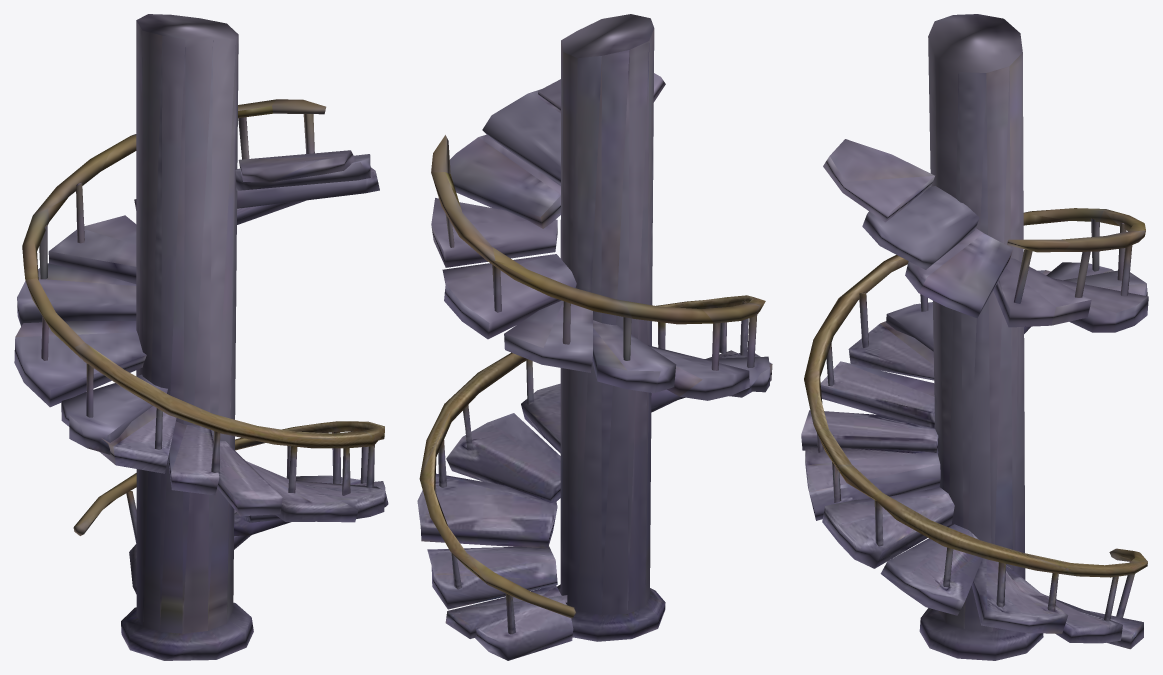
The model's file is cp_escadaria.glb.
3 renders of one model, left to right at view 1: azimuth 30°, elevation 25°; view 2: azimuth 150°, elevation 25°; view 3: azimuth 270°, elevation 25°, orthographic. The views are drawn at different scales.
Visible parts, largest first — view 1: Mesh_0.004; view 2: Mesh_0.004; view 3: Mesh_0.004.
Part boxes in pixels (x1,y1,x2,y2): Mesh_0.004: (14,14,388,660); Mesh_0.004: (417,14,772,660); Mesh_0.004: (801,14,1148,660).
Bounding box in the file's own units: 0.2642 × 0.4766 × 0.25.
Materials: 1 (1 with a texture image).
